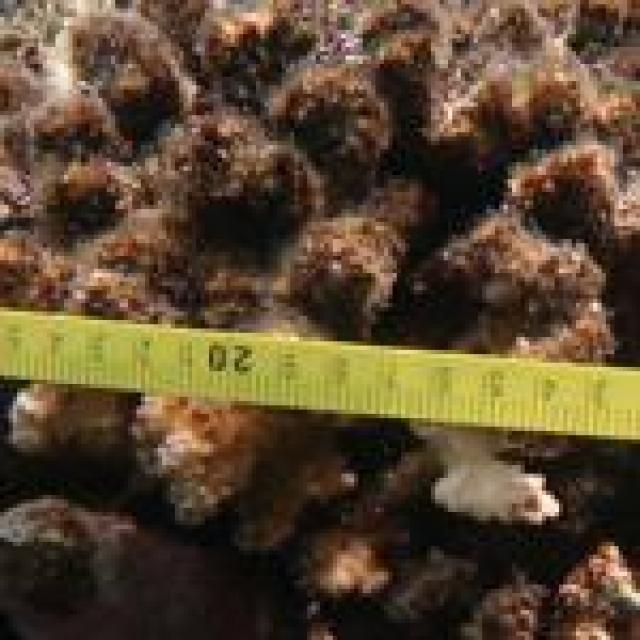Healthy Coral: (0, 1, 640, 326)
